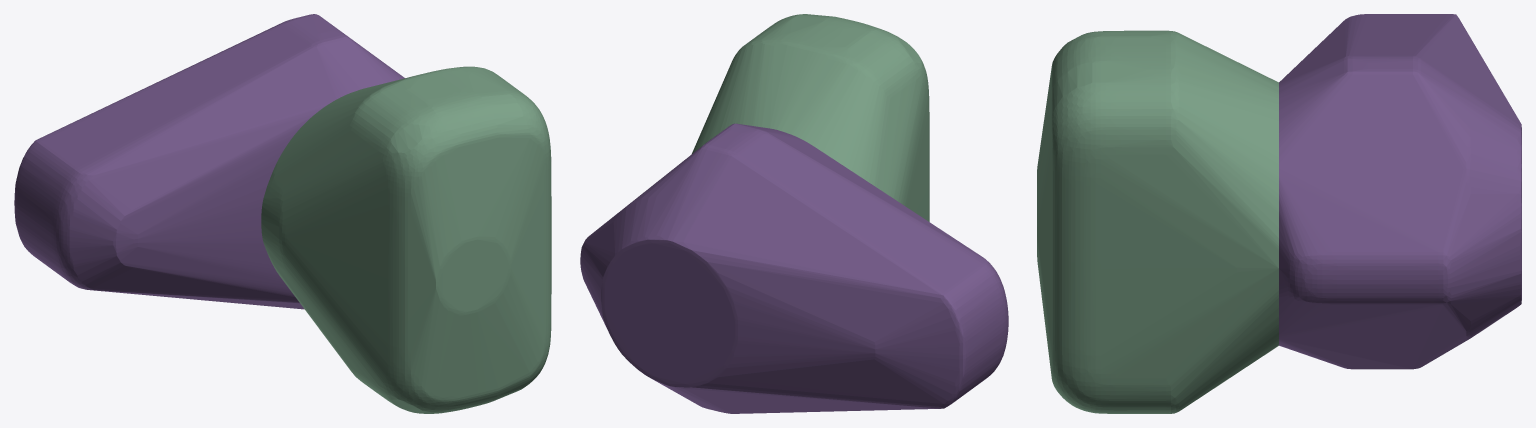
Rendered from gripper_base.obj.
3 renders of one model, left to right at view 1: azimuth 30°, elevation 25°; view 2: azimuth 150°, elevation 25°; view 3: azimuth 270°, elevation 25°, orthographic. The views are drawn at different scales.
Parts seen in each view (by area): view 1: geometry_0, geometry_1; view 2: geometry_1, geometry_0; view 3: geometry_0, geometry_1.
Part boxes in pixels (bbox=[...]): geometry_0: bbox=[261, 66, 551, 413]; geometry_1: bbox=[14, 14, 404, 309]; geometry_1: bbox=[580, 123, 1008, 413]; geometry_0: bbox=[691, 14, 929, 221]; geometry_0: bbox=[1037, 30, 1278, 413]; geometry_1: bbox=[1279, 14, 1521, 369].
Size of the model in its own units: 0.1417 by 0.1047 by 0.1348.
